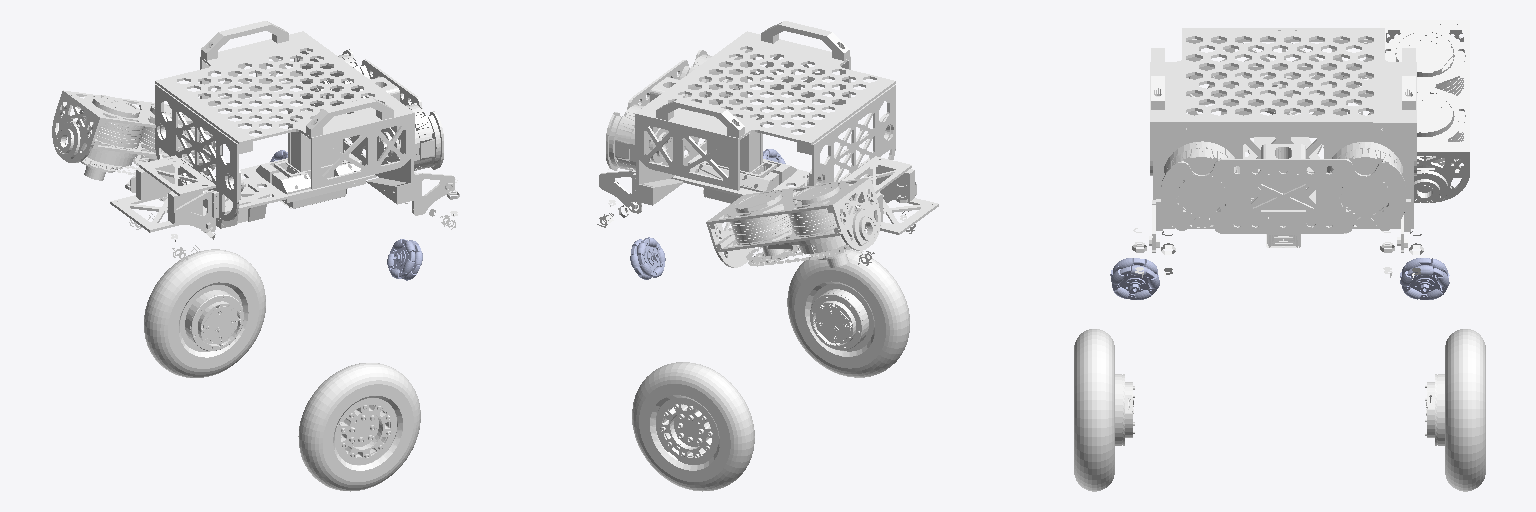
The robot description file, URDF, robot "wheel_leg":
<?xml version="1.0" encoding="utf-8"?>
<!-- This URDF was automatically created by SolidWorks to URDF Exporter! Originally created by Stephen Brawner (brawner@gmail.com) 
     Commit Version: 1.6.0-4-g7f85cfe  Build Version: 1.6.7995.38578
     For more information, please see http://wiki.ros.org/sw_urdf_exporter -->
<robot name="wheel_leg">
<mujoco>
  <compiler
  meshdir=""
  balanceinertia="true"
  discardvisual="false" />
</mujoco>  

<link name="world"></link>
<joint name="floating_base_joint" type="floating">
  <parent link="world" />
  <child link="base_link" />
</joint> 

  <!-- 这部分是urdf的连杆关节描述 -->
  <!-- link -->
  <link name="base_link">
    <inertial>
      <origin xyz="0.01131 -0.0013618 -0.00028518" rpy="0 0 0" />
      <!-- <mass value="2.9637" /> -->
      <mass value="10.9637" />
      <inertia ixx="0.032877" ixy="7.66E-06" ixz="0.0013225" iyy="0.022941" iyz="-1.903E-05" izz="0.041458" />
    </inertial>
    <visual>
      <origin xyz="0 0 0" rpy="0 0 0" />
      <geometry>
        <mesh filename="../meshes/base_link.STL" />
      </geometry>
      <material name="">
        <color rgba="1 1 1 1" />
      </material>
    </visual>
    <collision>
      <origin xyz="0 0 0" rpy="0 0 0" />
      <geometry>
        <mesh filename="../meshes/base_link.STL" />
      </geometry>
    </collision>
  </link>

  <link name="right_hip_link">
    <inertial>
      <origin xyz="0.020031 0.0032153 0.0036019" rpy="0 0 0" />
      <mass value="0.51378" />
      <inertia ixx="0.00053799" ixy="-3.71E-05" ixz="-0.00023837" iyy="0.0015906" iyz="-3.414E-05" izz="0.0015943" />
    </inertial>
    <visual>
      <origin xyz="0 0 0" rpy="0 0 0" />
      <geometry>
        <mesh filename="../meshes/right_hip_link.STL" />
      </geometry>
      <material name="">
        <color rgba="1 1 1 1" />
      </material>
    </visual>
    <collision>
      <origin xyz="0 0 0" rpy="0 0 0" />
      <geometry>
        <mesh filename="../meshes/right_hip_link.STL" />
      </geometry>
    </collision>
  </link>

  <link name="right_knee_link">
    <inertial>
      <origin xyz="0.072881 0.034135 0.019602" rpy="0 0 0" />
      <mass value="0.27188" />
      <inertia ixx="0.00060818" ixy="-0.00045096" ixz="-0.00016097" iyy="0.0018646" iyz="0.00017552" izz="0.0022898" />
    </inertial>
    <visual>
      <origin xyz="0 0 0" rpy="0 0 0" />
      <geometry>
        <mesh filename="../meshes/right_knee_link.STL" />
      </geometry>
      <material name="">
        <color rgba="0.79216 0.81961 0.93333 1" />
      </material>
    </visual>
    <collision>
      <origin xyz="0 0 0" rpy="0 0 0" />
      <geometry>
        <mesh filename="../meshes/right_knee_link.STL" />
      </geometry>
    </collision>
  </link>

  <link name="right_ankle_link">
    <inertial>
      <origin xyz="3.3998E-05 -2.1315E-05 0.046652" rpy="0 0 0" />
      <mass value="1.3401" />
      <inertia ixx="0.0034313" ixy="1.05E-06" ixz="3.9E-07" iyy="0.0034305" iyz="-3.7E-07" izz="0.0062845" />
    </inertial>
    <visual>
      <origin xyz="0 0 0" rpy="0 0 0" />
      <geometry>
        <mesh filename="../meshes/right_ankle_link.STL" />
      </geometry>
      <material name="">
        <color rgba="1 1 1 1" />
      </material>
    </visual>
    <collision>
      <origin xyz="0 0 0" rpy="0 0 0" />
      <geometry>
        <mesh filename="../meshes/right_ankle_link.STL" />
      </geometry>
    </collision>
  </link>

  <link name="left_hip_link">
    <inertial>
      <origin xyz="0.019888 -0.0032269 0.0036874" rpy="0 0 0" />
      <mass value="0.51183" />
      <inertia ixx="0.00053571" ixy="3.735E-05" ixz="-0.00023627" iyy="0.0015772" iyz="3.397E-05" izz="0.0015814" />
    </inertial>
    <visual>
      <origin xyz="0 0 0" rpy="0 0 0" />
      <geometry>
        <mesh filename="../meshes/left_hip_link.STL" />
      </geometry>
      <material name="">
        <color rgba="1 1 1 1" />
      </material>
    </visual>
    <collision>
      <origin xyz="0 0 0" rpy="0 0 0" />
      <geometry>
        <mesh filename="../meshes/left_hip_link.STL" />
      </geometry>
    </collision>
  </link>

  <link name="left_knee_link">
    <inertial>
      <origin xyz="0.073104 -0.034096 0.019634" rpy="0 0 0" />
      <mass value="0.27057" />
      <inertia ixx="0.00060605" ixy="0.00044968" ixz="-0.00016124" iyy="0.0018598" iyz="-0.00017532" izz="0.0022833" />
    </inertial>
    <visual>
      <origin xyz="0 0 0" rpy="0 0 0" />
      <geometry>
        <mesh filename="../meshes/left_knee_link.STL" />
      </geometry>
      <material name="">
        <color rgba="0.79216 0.81961 0.93333 1" />
      </material>
    </visual>
    <collision>
      <origin xyz="0 0 0" rpy="0 0 0" />
      <geometry>
        <mesh filename="../meshes/left_knee_link.STL" />
      </geometry>
    </collision>
  </link>

  <link name="left_ankle_link">
    <inertial>
      <origin xyz="-1.783E-05 -3.5948E-05 0.046652" rpy="0 0 0" />
      <mass value="1.3401" />
      <inertia ixx="0.0034303" ixy="-9.5E-07" ixz="-3.3E-07" iyy="0.0034315" iyz="-4.2E-07" izz="0.0062845" />
    </inertial>
    <visual>
      <origin xyz="0 0 0" rpy="0 0 0" />
      <geometry>
        <mesh filename="../meshes/left_ankle_link.STL" />
      </geometry>
      <material name="">
        <color rgba="1 1 1 1" />
      </material>
    </visual>
    <collision>
      <origin xyz="0 0 0" rpy="0 0 0" />
      <geometry>
        <mesh filename="../meshes/left_ankle_link.STL" />
      </geometry>
    </collision>
  </link>

  <!-- joint -->
  <joint name="right_thigh_joint" type="revolute">
    <origin xyz="-0.001 -0.1785 -0.025" rpy="1.5708 0.34907 0" />
    <parent link="base_link" />
    <child link="right_hip_link" />
    <axis xyz="0 0 -1" />
    <limit lower="-3.14" upper="3.14" effort="20" velocity="6.5" />
    <dynamics damping="1" friction="0.5" />
    <!-- <dynamics damping="0" friction="0" /> -->
  </joint>

  <joint name="right_calf_joint" type="revolute">
    <origin xyz="0.15 0 0" rpy="0 0 -1.6581" />
    <parent link="right_hip_link" />
    <child link="right_knee_link" />
    <axis xyz="0 0 -1" />
    <limit lower="-3.14" upper="3.14" effort="20" velocity="6.5" />
    <dynamics damping="2" friction="0.5" />
    <!-- <dynamics damping="0" friction="0" /> -->
  </joint>

  <joint name="right_wheel_joint" type="continuous">
    <origin xyz="0.25 0 0" rpy="0 0 2.0071" />
    <parent link="right_knee_link" />
    <child link="right_ankle_link" />
    <axis xyz="0 0 -1" />
    <limit effort="20" velocity="500" />
    <dynamics damping="0" friction="0.0" />
  </joint>

  <joint name="left_thigh_joint" type="revolute">
    <origin xyz="-0.00099957 0.1765 -0.024999" rpy="-1.5708 0.34907 0" />
    <parent link="base_link" />
    <child link="left_hip_link" />
    <axis xyz="0 0 1" />
    <limit lower="-3.14" upper="3.14" effort="20" velocity="6.5" />
    <dynamics damping="1" friction="0.5" />
    <!-- <dynamics damping="0" friction="0" /> -->
  </joint>

  <joint name="left_calf_joint" type="revolute">
    <origin xyz="0.15 0 0" rpy="0 0 1.6581" />
    <parent link="left_hip_link" />
    <child link="left_knee_link" />
    <axis xyz="0 0 1" />
    <limit lower="-3.14" upper="3.14" effort="20" velocity="6.5" />
    <dynamics damping="2" friction="0.5" />
    <!-- <dynamics damping="0" friction="0" /> -->
  </joint>

  <joint name="left_wheel_joint" type="continuous">
    <origin xyz="0.25 0 0" rpy="0 0 -2.0071" />
    <parent link="left_knee_link" />
    <child link="left_ankle_link" />
    <axis xyz="0 0 1" />
    <limit effort="20" velocity="500" />
    <dynamics damping="0" friction="0.0" />
  </joint>
 
</robot>

--- Render facts (derived) ---
3 views of the same robot in one strip: view 1: azimuth 30°, elevation 25°; view 2: azimuth 150°, elevation 25°; view 3: azimuth 270°, elevation 25° (orthographic).
Robot: wheel_leg — 8 links, 7 joints (4 revolute, 2 continuous, 1 floating); root link world; default pose: all joints at 0.
Visible links, largest first — view 1: base_link, right_ankle_link, left_ankle_link, left_hip_link, right_knee_link; view 2: base_link, left_ankle_link, right_ankle_link, left_hip_link, left_knee_link; view 3: base_link, left_hip_link, right_ankle_link, left_ankle_link, left_knee_link, right_knee_link.
Boxes of the visible links, box(x1,y1,x2,y2) form: base_link: box(110, 21, 459, 261); right_ankle_link: box(298, 363, 420, 491); left_ankle_link: box(144, 249, 265, 377); left_hip_link: box(52, 90, 215, 180); right_knee_link: box(387, 239, 422, 280); base_link: box(597, 21, 938, 265); left_ankle_link: box(632, 362, 754, 491); right_ankle_link: box(787, 250, 909, 377); left_hip_link: box(706, 178, 880, 267); left_knee_link: box(630, 237, 665, 279); base_link: box(1132, 28, 1423, 277); left_hip_link: box(1380, 20, 1469, 202); right_ankle_link: box(1074, 329, 1134, 491); left_ankle_link: box(1425, 329, 1485, 491); left_knee_link: box(1400, 258, 1449, 299); right_knee_link: box(1110, 258, 1159, 299).
Size in the robot's own frame: 0.4774 by 0.5044 by 0.5838 metres.
Meshes: 7 distinct files referenced, 6 mesh visuals loaded (6 binary STL); not drawn: 1 (reference not matched to a file when rendering).
